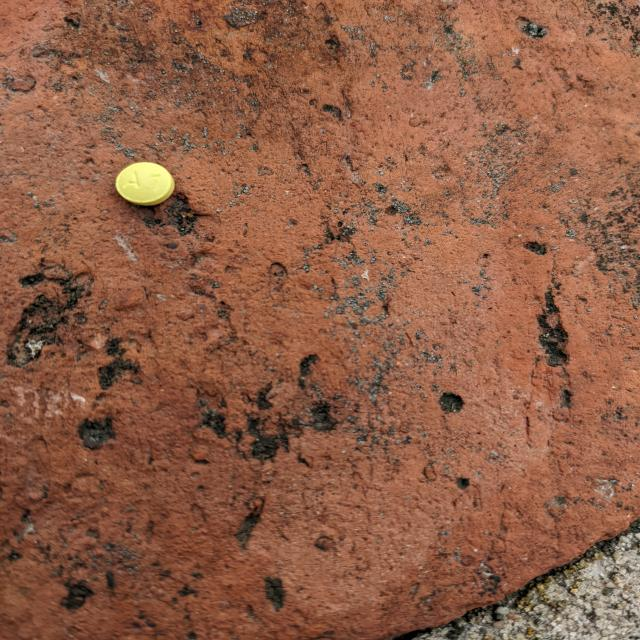non-organic waste: (113, 161, 177, 206)
